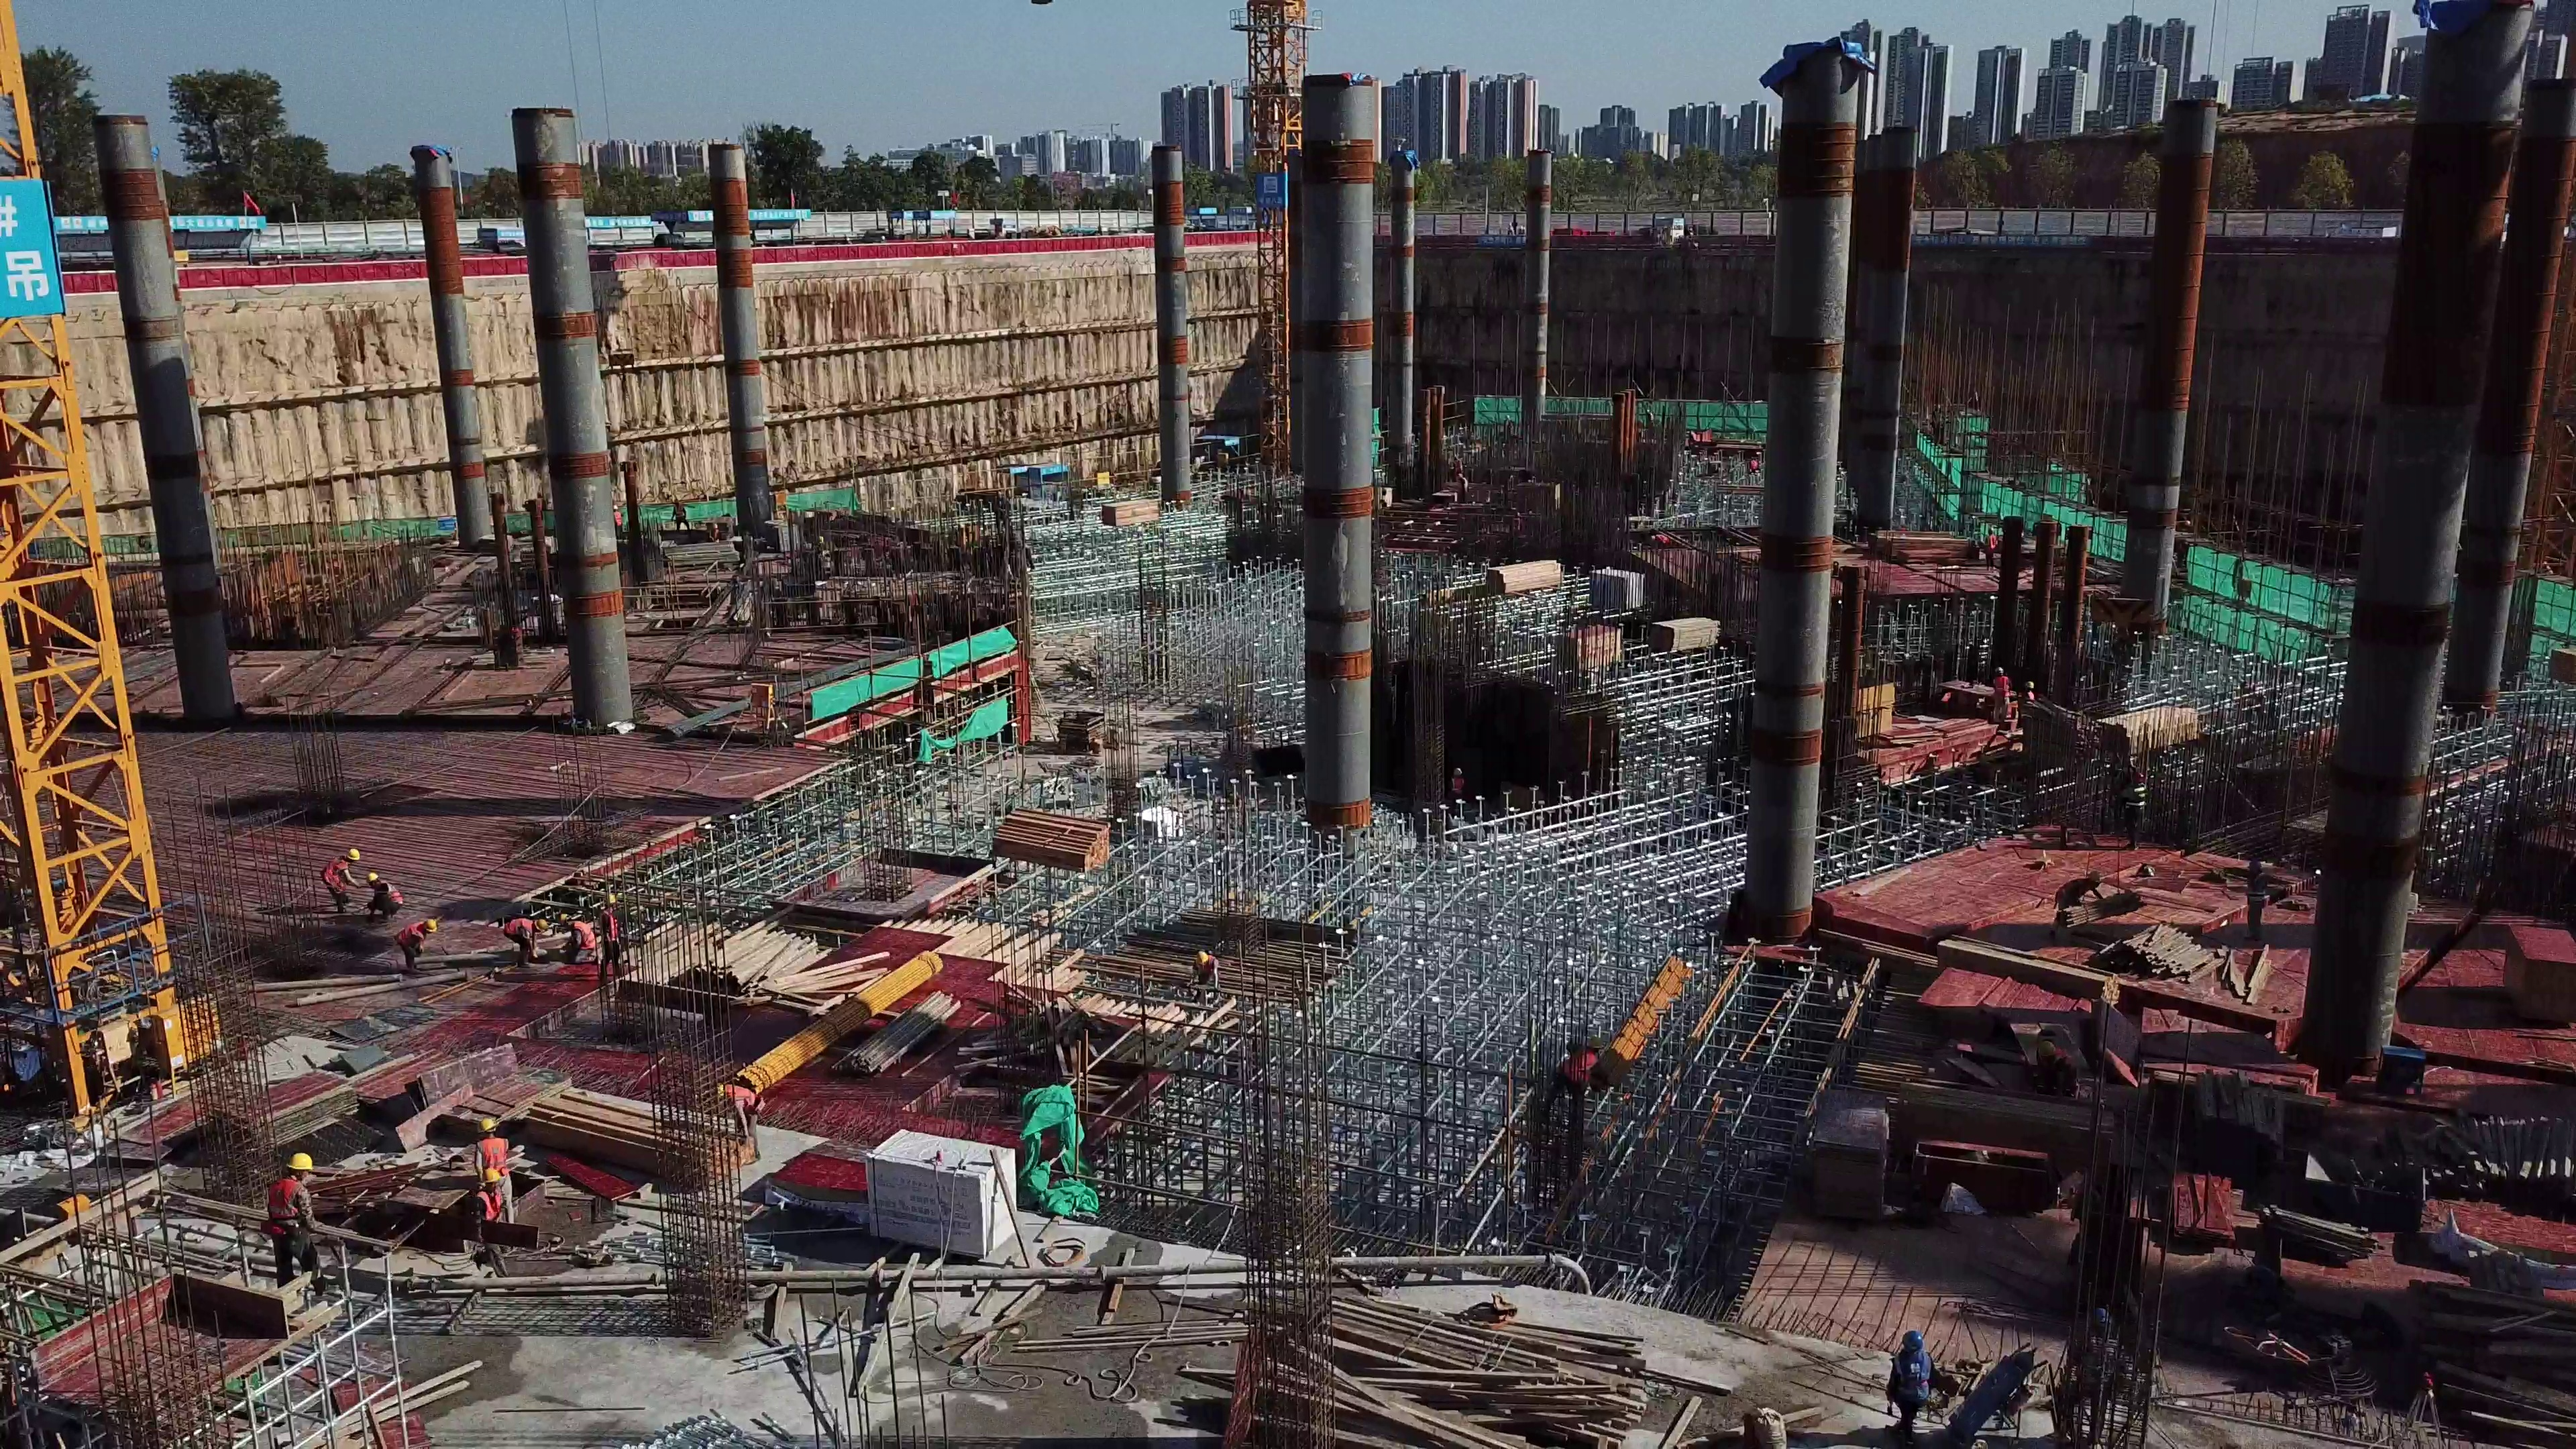board: (1805, 1085, 1892, 1220), (211, 1069, 369, 1142), (420, 1050, 575, 1119)
ebox: (144, 1001, 225, 1075)
fence: (747, 229, 1155, 269), (174, 257, 427, 279), (588, 247, 717, 273), (454, 256, 528, 284), (1184, 228, 1271, 248)
helmet: (1898, 1330, 1923, 1356), (288, 1152, 315, 1174), (480, 1171, 505, 1188), (2035, 1042, 2055, 1058), (477, 1118, 495, 1134), (420, 916, 435, 931), (535, 917, 549, 932), (344, 845, 360, 860), (604, 895, 619, 907), (2021, 680, 2034, 692), (366, 871, 379, 884)
person: (260, 1154, 321, 1305), (1888, 1326, 1943, 1436), (474, 1122, 516, 1221), (718, 1081, 769, 1163), (478, 1179, 513, 1275), (504, 914, 551, 973), (2241, 861, 2275, 940), (321, 847, 360, 912), (395, 919, 436, 972), (560, 916, 599, 969), (604, 896, 621, 983), (367, 874, 402, 918), (1188, 948, 1220, 996), (666, 498, 688, 537), (1992, 666, 2007, 717), (2023, 680, 2037, 722), (1447, 765, 1464, 800), (1986, 527, 1998, 573), (611, 503, 623, 539), (1457, 475, 1470, 506), (1650, 533, 1669, 548), (1748, 455, 1759, 480)
vest: (265, 1179, 307, 1241), (1894, 1354, 1932, 1408), (725, 1081, 765, 1116), (470, 1139, 508, 1171), (323, 856, 347, 901), (394, 923, 429, 953), (572, 919, 599, 954), (478, 1192, 504, 1224), (502, 915, 537, 938), (384, 881, 402, 909), (1995, 676, 2010, 698), (1193, 951, 1209, 964)
wood: (1276, 1287, 1646, 1449), (625, 920, 863, 1013), (2378, 1114, 2576, 1198), (2113, 928, 2272, 997), (2191, 1067, 2287, 1171), (993, 809, 1110, 879), (2094, 693, 2202, 748), (1876, 527, 1973, 568), (1482, 557, 1562, 594), (1102, 498, 1157, 527)
